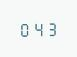four: (32, 20, 44, 36)
three: (45, 19, 57, 36)
zero: (18, 20, 30, 37)
